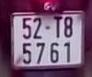1: (62, 40, 71, 63)
2: (32, 16, 43, 40)
5: (21, 42, 33, 66), (22, 17, 32, 40)
6: (48, 41, 60, 64)
7: (35, 42, 45, 65)
8: (63, 15, 73, 39)
T: (52, 15, 64, 39)
